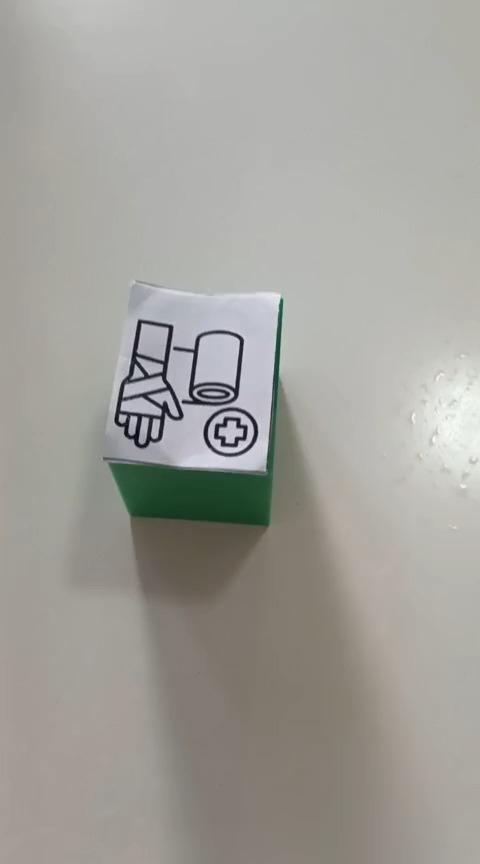Bandages: (101, 278, 283, 527)
